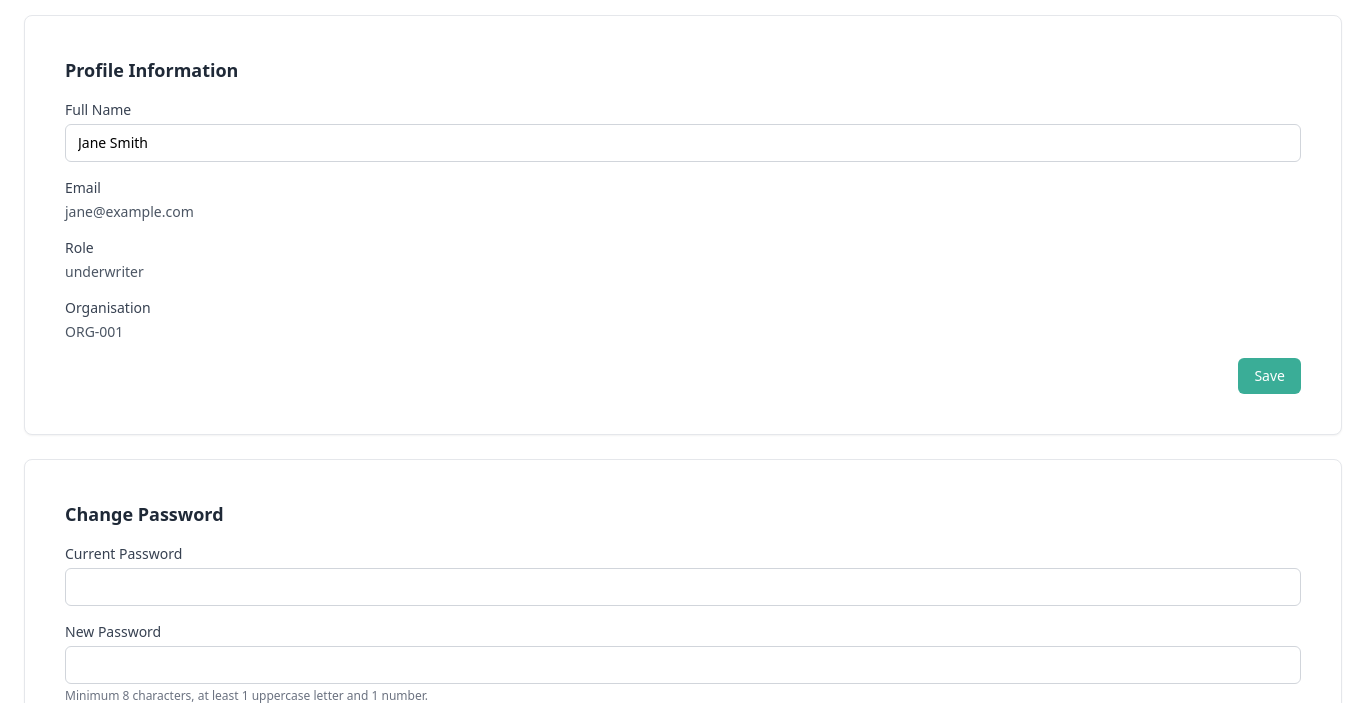
Scenario: T-PROFILE-PW-R09: 401 response shows inline current-password error › shows "Current password is incorrect" on 401
Expected: the field showing "Jane Smith" is shown, x1=65 y1=124 x2=1301 y2=162
Type "WrongPass1" into the password field labelled "Current Password" at [683, 587], box x1=65 y1=568 x2=1301 y2=606
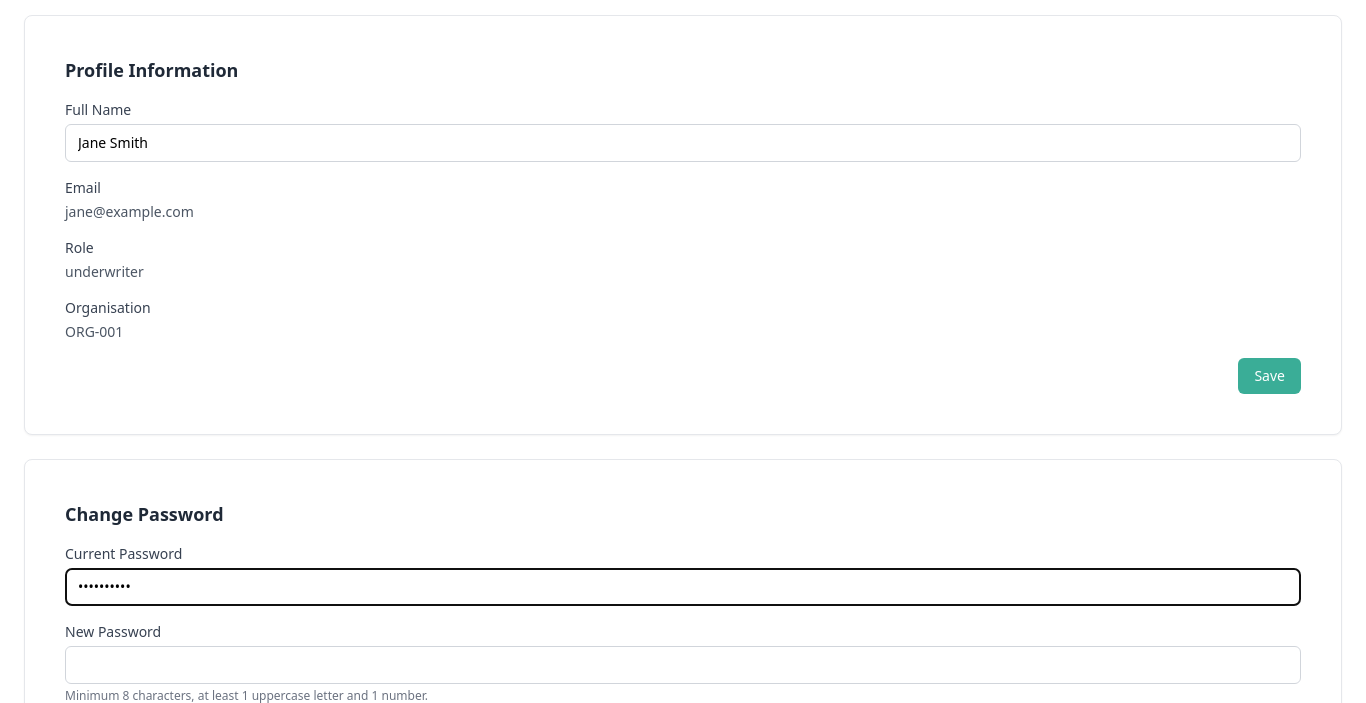
Type "ValidPass1" into the password field labelled "New Password" at [683, 665], box x1=65 y1=646 x2=1301 y2=684
(page scrolled)
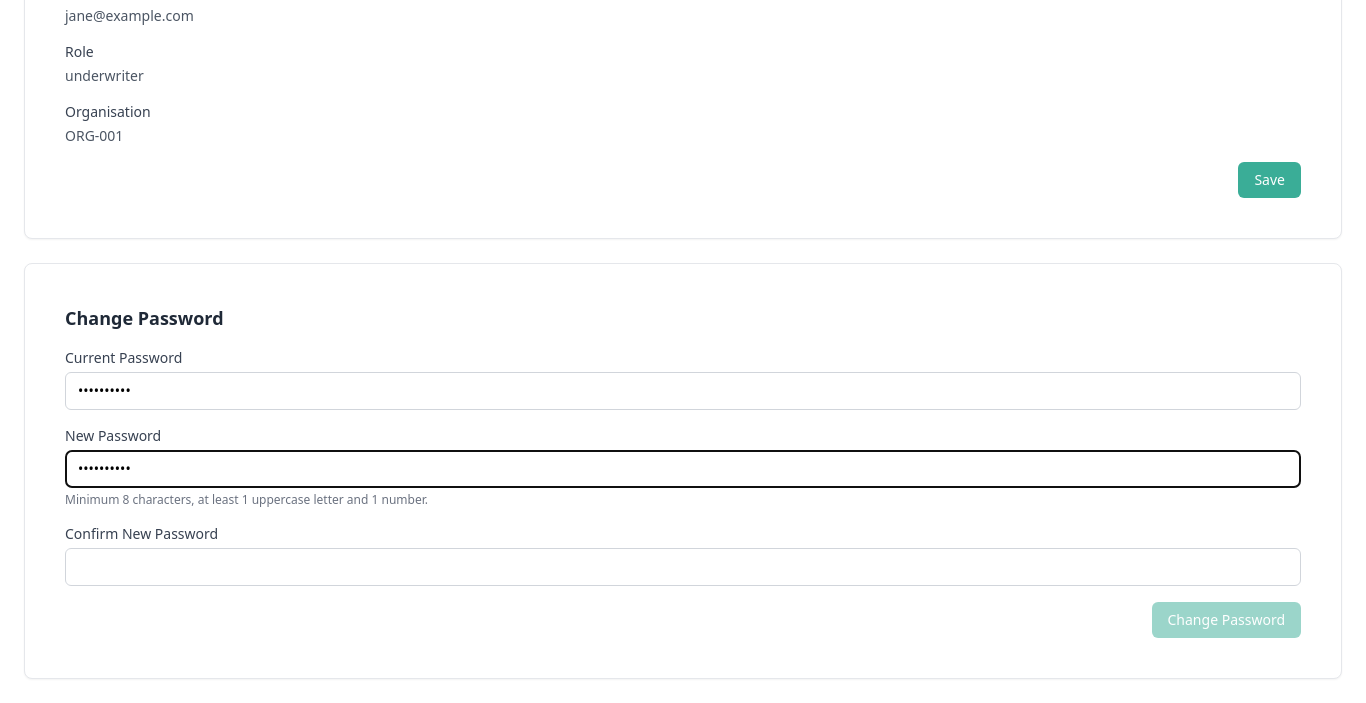
Type "ValidPass1" into the password field labelled "Confirm New Password" at [683, 567], box x1=65 y1=548 x2=1301 y2=586
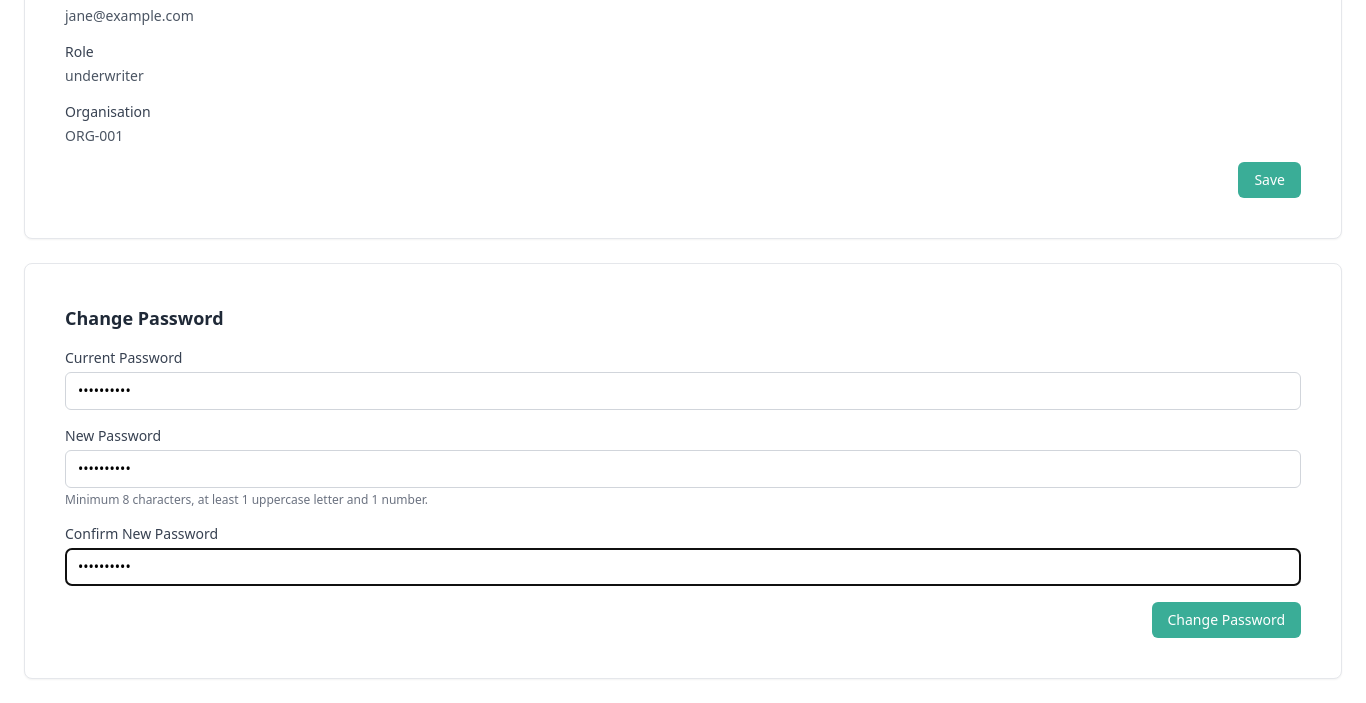
Click the button "Change Password" at [1226, 620], box x1=1152 y1=602 x2=1301 y2=638
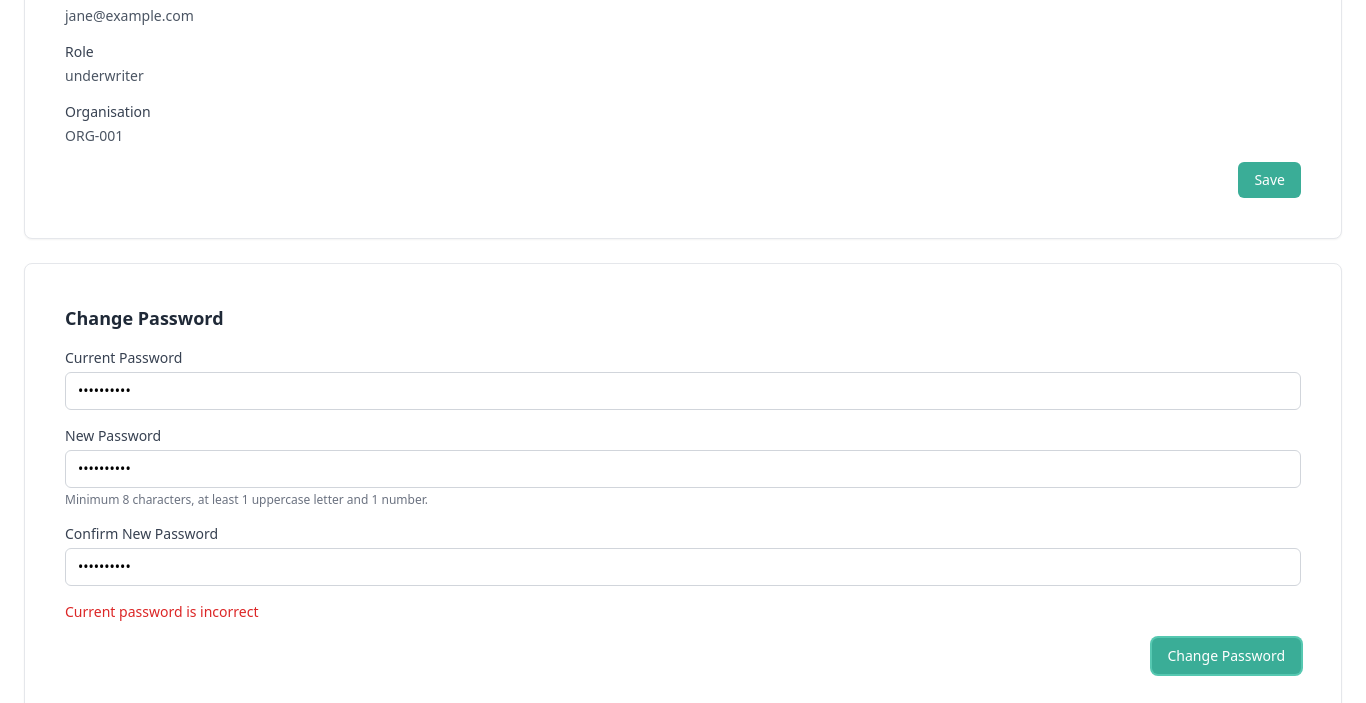
Now the text "Current password is incorrect" is shown, box x1=65 y1=602 x2=258 y2=621
